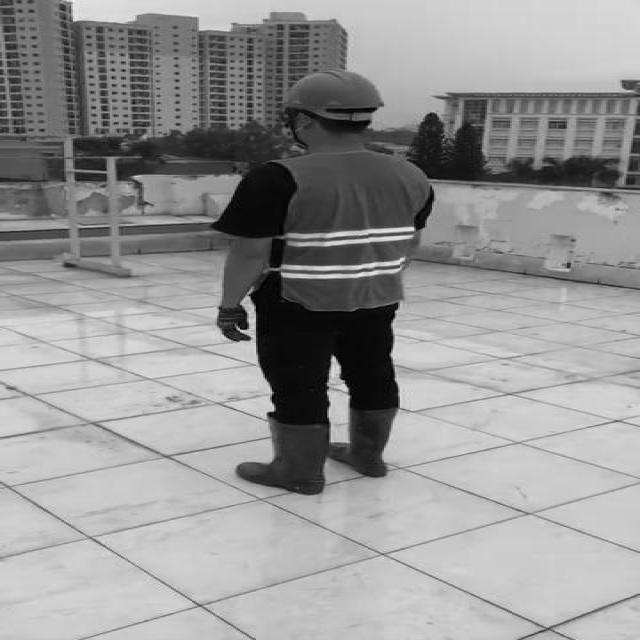boots: (236, 414, 334, 498), (330, 408, 404, 482)
hand_glove: (209, 304, 248, 344)
head_helmet: (282, 68, 388, 112)
person: (210, 64, 434, 494)
vest: (271, 151, 428, 313)
